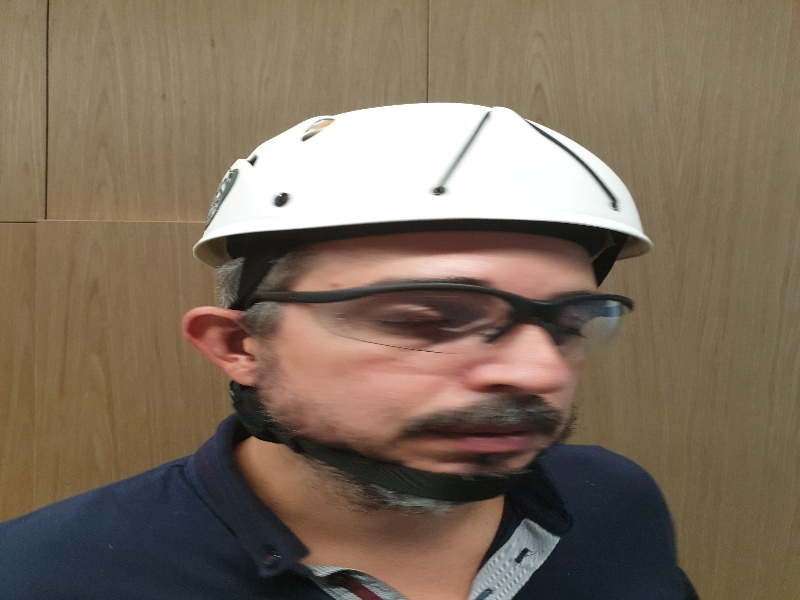Baret: (195, 102, 650, 243)
Gozluk: (238, 283, 640, 367)
